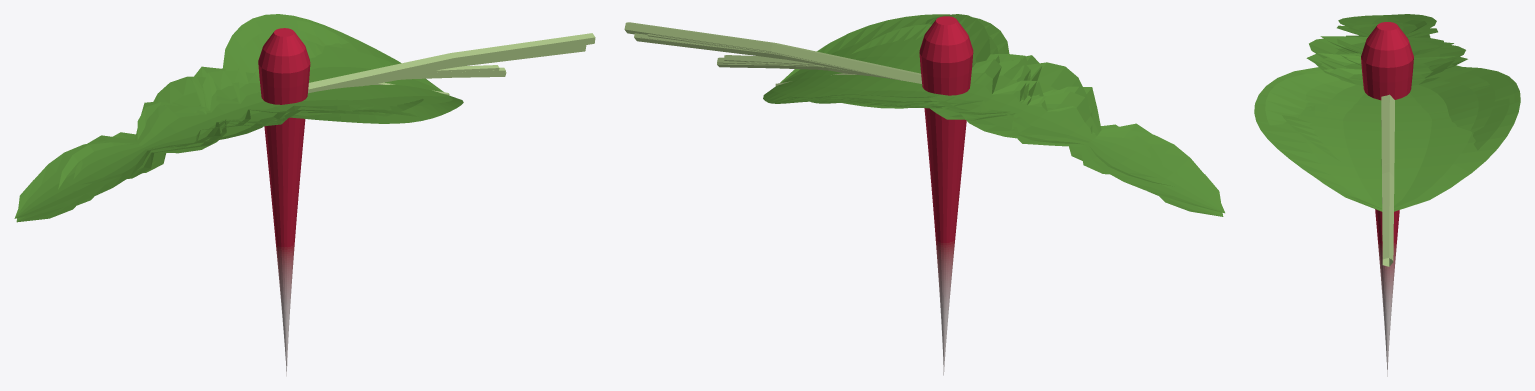
Rendered from radish_harvest_v04.articulated.glb.
3 renders of one model, left to right at view 1: azimuth 30°, elevation 25°; view 2: azimuth 150°, elevation 25°; view 3: azimuth 270°, elevation 25°, orthographic. The views are drawn at different scales.
Visible parts, largest first — view 1: leaf05_link2, root, leaf03_link2, leaf02_link2, leaf01_link0, leaf01_link2, leaf04_link2, leaf00_link2, leaf04_link0, leaf02_link0, leaf02_link1; view 2: leaf05_link2, root, leaf03_link2, leaf01_link0, leaf02_link2, leaf01_link2, leaf04_link2, leaf00_link2, leaf02_link0; view 3: leaf05_link2, root, leaf04_link2, leaf01_link2, leaf03_link2, leaf02_link2, leaf01_link0, leaf00_link2, leaf04_link0.
Part boxes in pixels (left/top/right/bottom): leaf05_link2: left=14, top=14, right=463, bottom=218; root: left=258, top=28, right=310, bottom=376; leaf03_link2: left=73, top=36, right=423, bottom=184; leaf02_link2: left=16, top=18, right=350, bottom=222; leaf01_link0: left=308, top=33, right=595, bottom=93; leaf01_link2: left=58, top=20, right=418, bottom=192; leaf04_link2: left=154, top=39, right=363, bottom=153; leaf00_link2: left=77, top=29, right=385, bottom=205; leaf04_link0: left=308, top=56, right=437, bottom=89; leaf02_link0: left=360, top=45, right=586, bottom=86; leaf02_link1: left=366, top=71, right=506, bottom=85; leaf05_link2: left=763, top=14, right=1224, bottom=213; root: left=919, top=16, right=973, bottom=375; leaf03_link2: left=810, top=24, right=1164, bottom=177; leaf01_link0: left=624, top=22, right=921, bottom=83; leaf02_link2: left=766, top=46, right=1223, bottom=216; leaf01_link2: left=788, top=14, right=1178, bottom=186; leaf04_link2: left=826, top=51, right=1087, bottom=149; leaf00_link2: left=811, top=35, right=1158, bottom=195; leaf02_link0: left=634, top=33, right=899, bottom=80; leaf05_link2: left=1254, top=14, right=1520, bottom=208; root: left=1361, top=22, right=1413, bottom=376; leaf04_link2: left=1306, top=36, right=1478, bottom=130; leaf01_link2: left=1265, top=20, right=1509, bottom=150; leaf03_link2: left=1282, top=24, right=1489, bottom=161; leaf02_link2: left=1304, top=25, right=1514, bottom=211; leaf01_link0: left=1381, top=95, right=1394, bottom=265; leaf00_link2: left=1303, top=34, right=1495, bottom=132; leaf04_link0: left=1381, top=94, right=1389, bottom=165.
Bounding box in the file's own units: 0.3048 × 0.1736 × 0.12.
1 material, 1 textured.
